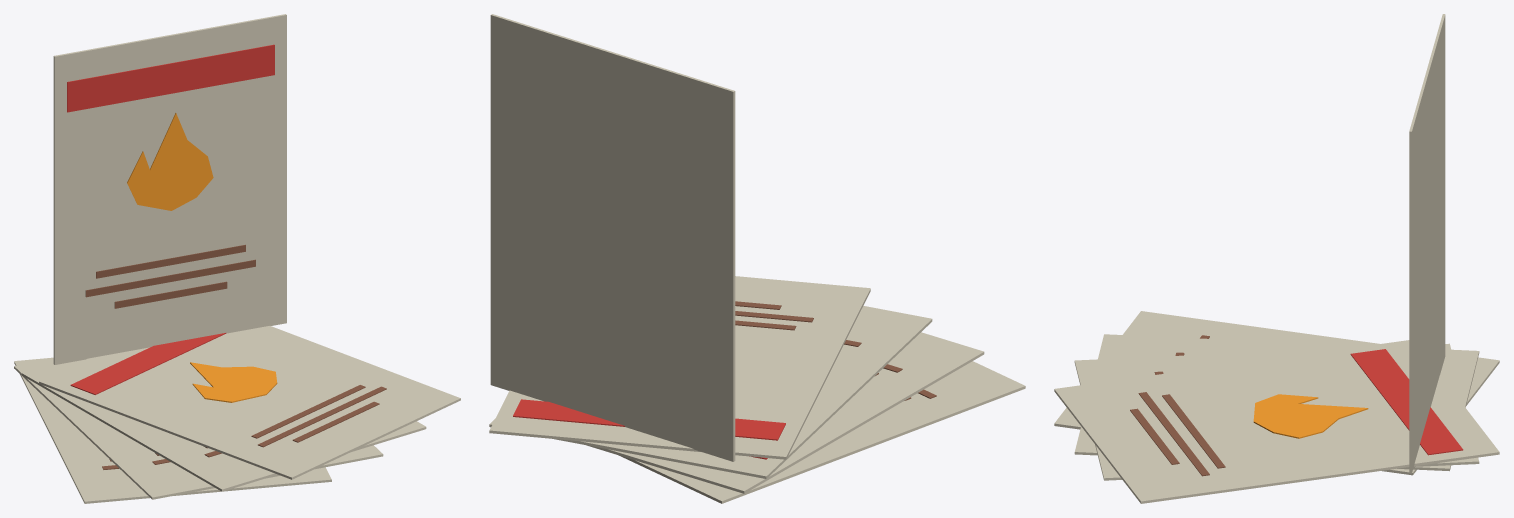
File: fliers.glb
The picture shows the model from 3 angles, left to right: view 1: azimuth 30°, elevation 25°; view 2: azimuth 150°, elevation 25°; view 3: azimuth 270°, elevation 25°; orthographic projection. The views are drawn at different scales.
Parts seen in each view (by area): view 1: fliers; view 2: fliers; view 3: fliers.
Boxes of the visible parts, box(x1,y1,x2,y2) form: fliers: box(14, 14, 460, 503); fliers: box(489, 14, 1025, 503); fliers: box(1054, 14, 1499, 503).
Bounding box in the file's own units: 0.3524 × 0.288 × 0.3259.
